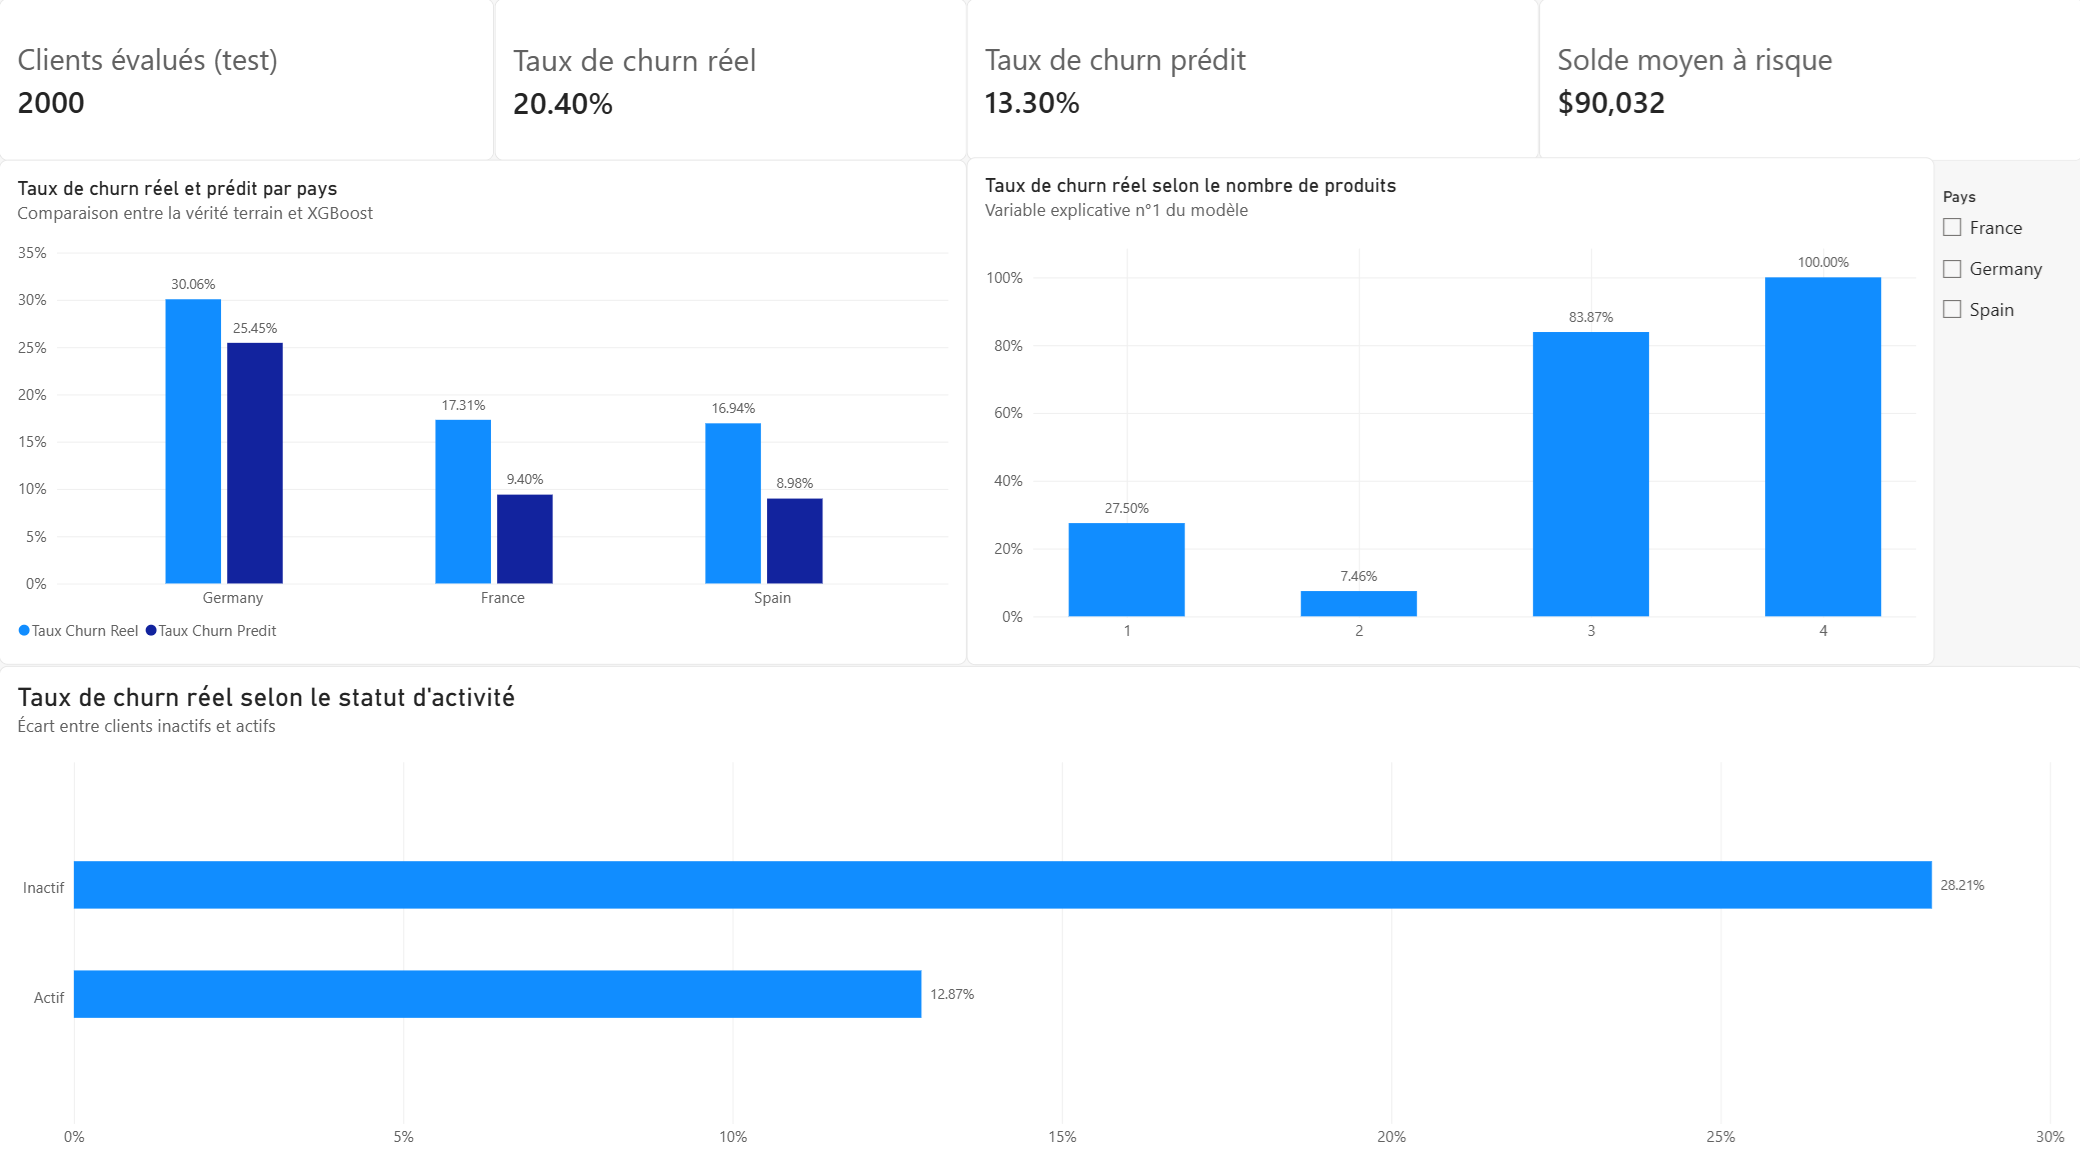

The dashboard page shown, as its layout file describes it:
{"tool":"powerbi","page":{"name":"Analyse Clients","canvas":[1920,1080],"ordinal":0},"visuals":[{"type":"cardVisual","title":"Clients évalués (test)","fields":{"Data":["bank_churn_predictions_powerbi.Clients Evalues"]},"box":[0,0,456.8,150.6],"z":0},{"type":"cardVisual","fields":{"Data":["bank_churn_predictions_powerbi.Taux Churn Reel"]},"box":[456.2,0,435,150],"z":1000},{"type":"cardVisual","fields":{"Data":["bank_churn_predictions_powerbi.Taux Churn Predit"]},"box":[891.1,0,527.1,150.6],"z":2000},{"type":"cardVisual","fields":{"Data":["bank_churn_predictions_powerbi.Solde Moyen Risque"]},"box":[1418.2,0,502,150.6],"z":3000},{"type":"clusteredColumnChart","title":"Taux de churn réel et prédit par pays","fields":{"Category":["bank_churn_predictions_powerbi.Geography"],"Y":["bank_churn_predictions_powerbi.Taux Churn Reel","bank_churn_predictions_powerbi.Taux Churn Predit"]},"box":[0,149.4,891.5,465.3],"z":4000},{"type":"clusteredColumnChart","title":"Taux de churn réel selon le nombre de produits","fields":{"Category":["bank_churn_predictions_powerbi.NumOfProducts"],"Y":["bank_churn_predictions_powerbi.Taux Churn Reel"]},"box":[891.5,147,891.5,467.8],"z":5000},{"type":"clusteredBarChart","title":"Taux de churn réel selon le statut d''activité","fields":{"Category":["bank_churn_predictions_powerbi.Statut Activite"],"Y":["bank_churn_predictions_powerbi.Taux Churn Reel"]},"box":[0,615,1920.2,465.3],"z":6000},{"type":"slicer","fields":{"Values":["bank_churn_predictions_powerbi.Geography"]},"box":[1782.5,173.8,137.2,151.8],"z":7000}]}

Visuals, with their boxes in screenshot pixels (x1, y1, x2, y2), scaled from the page's 1920x1080 canvas onto the 2080x1163 screenshot:
"Clients évalués (test)" cardVisual: rect(0, 0, 495, 162)
cardVisual - bank_churn_predictions_powerbi.Taux Churn Reel: rect(494, 0, 965, 162)
cardVisual - bank_churn_predictions_powerbi.Taux Churn Predit: rect(965, 0, 1536, 162)
cardVisual - bank_churn_predictions_powerbi.Solde Moyen Risque: rect(1536, 0, 2079, 162)
"Taux de churn réel et prédit par pays" clusteredColumnChart: rect(0, 161, 966, 662)
"Taux de churn réel selon le nombre de produits" clusteredColumnChart: rect(966, 158, 1932, 662)
"Taux de churn réel selon le statut d''activité" clusteredBarChart: rect(0, 662, 2079, 1162)
slicer - bank_churn_predictions_powerbi.Geography: rect(1931, 187, 2079, 351)
